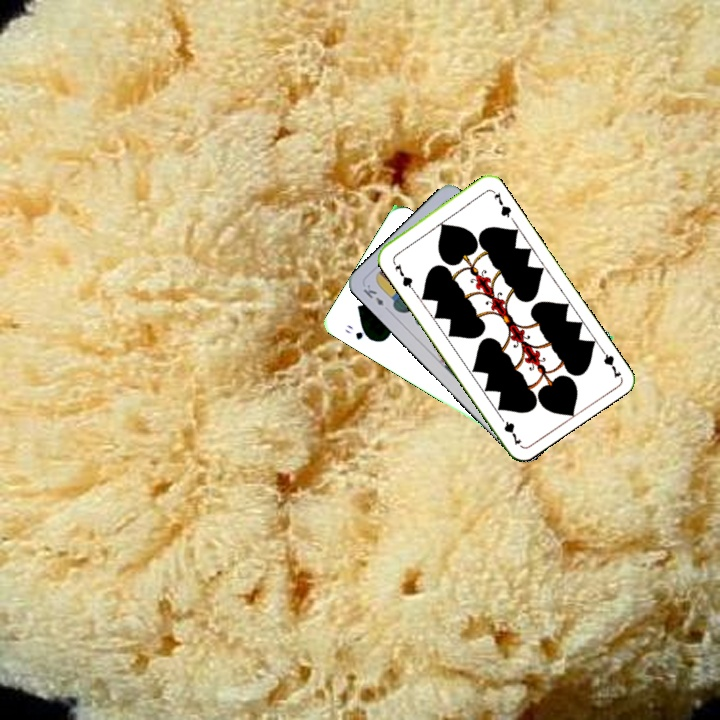EK: (359, 280, 387, 308)
G7: (595, 342, 624, 381), (391, 260, 415, 292)
GO: (341, 321, 376, 344)
